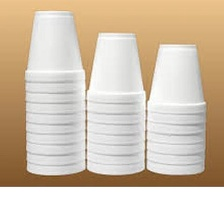paper_cup: (19, 5, 88, 178), (84, 27, 146, 178), (145, 38, 209, 177)
